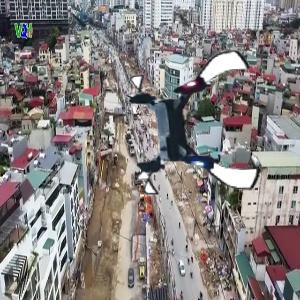drone: (124, 52, 268, 196)
